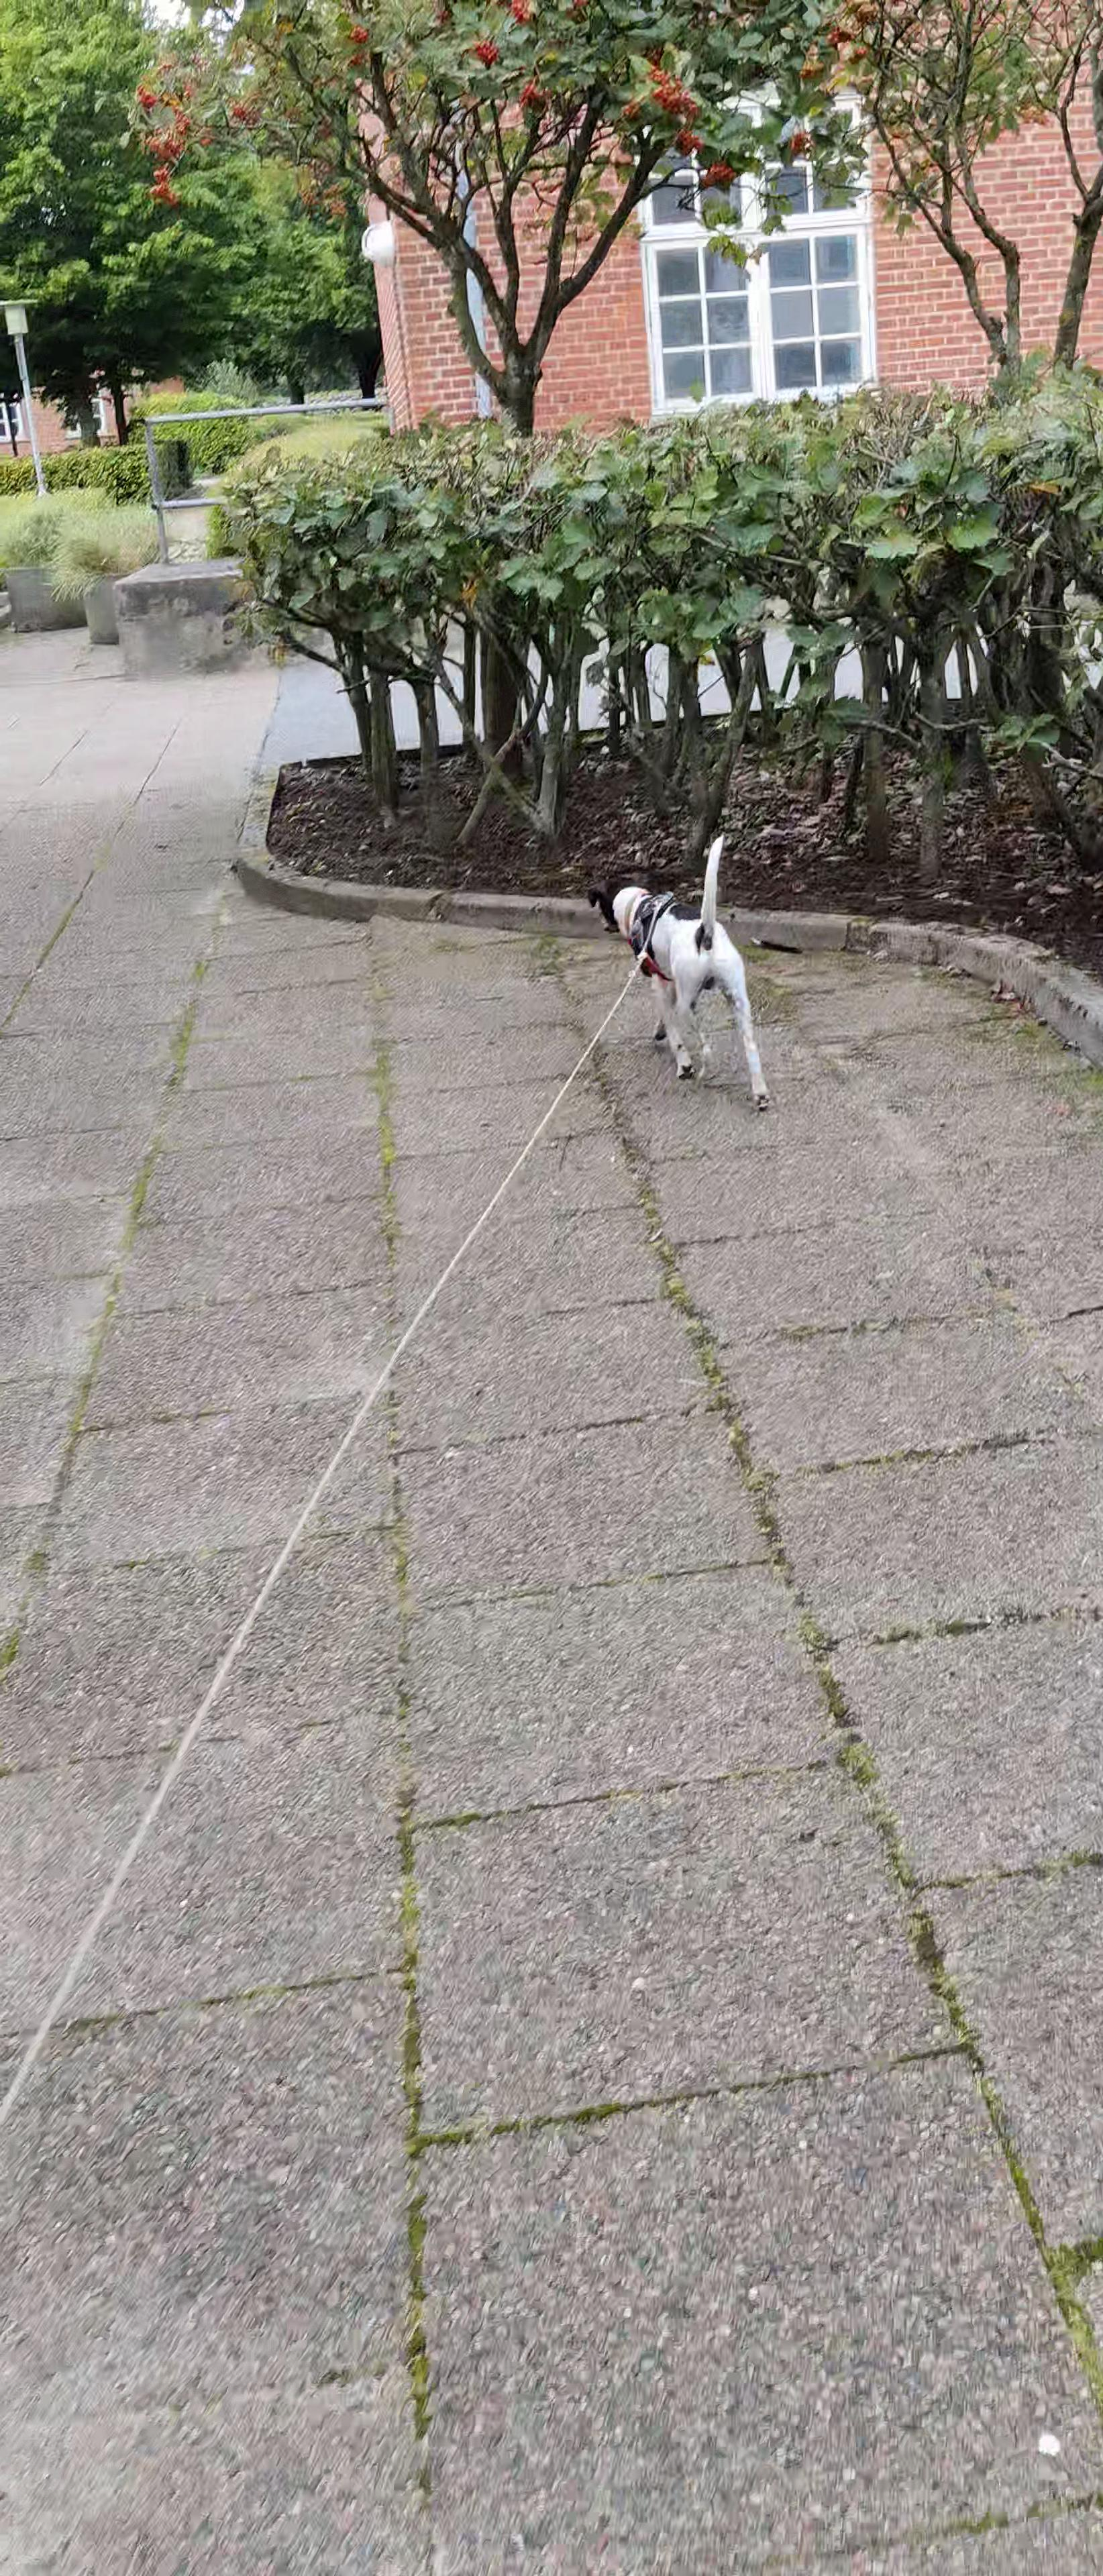Dog: (570, 828, 779, 1111)
